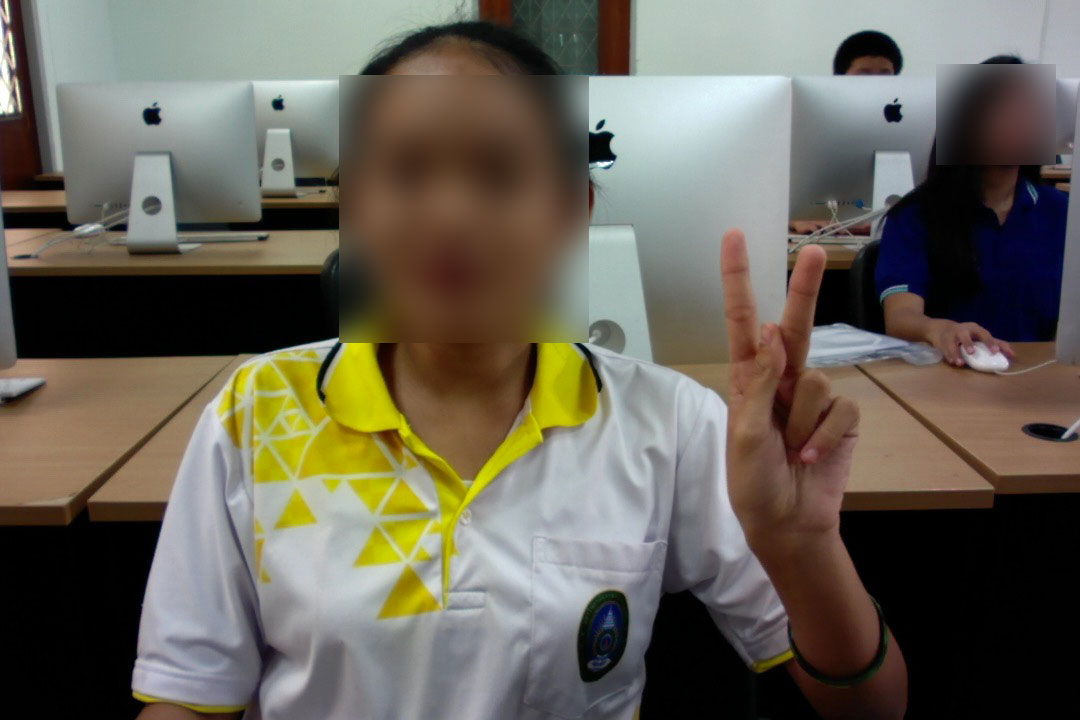ko: (717, 221, 865, 587)
